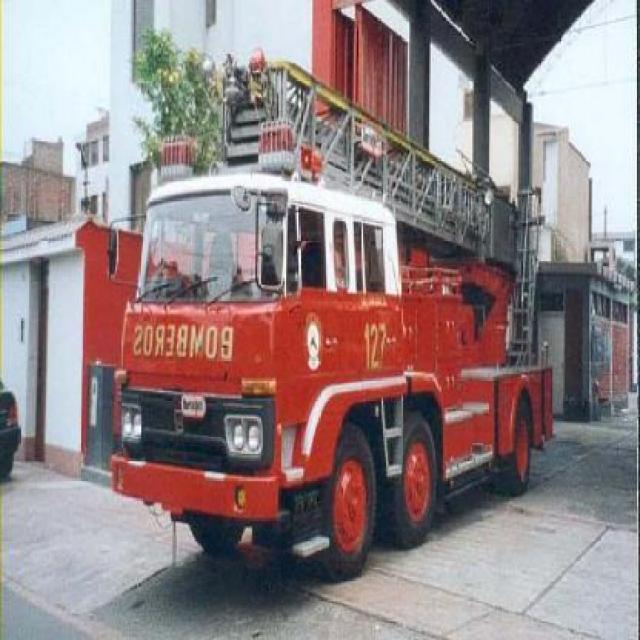truck: (107, 165, 558, 574)
